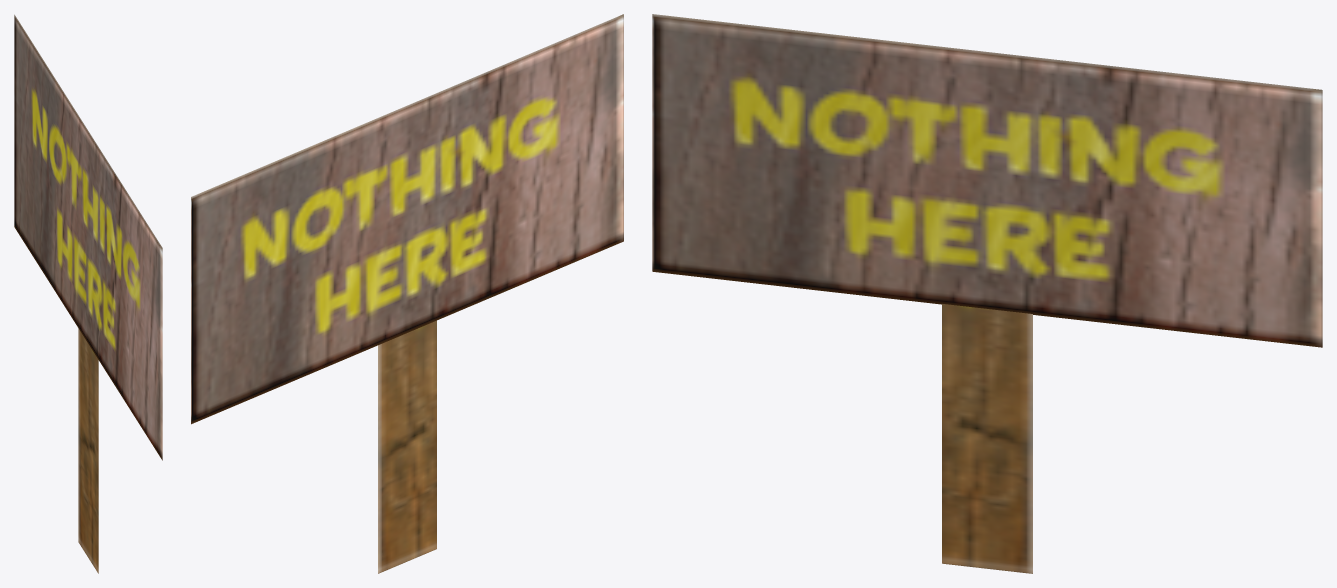
The model's file is wrongtway15.glb.
The picture shows the model from 3 angles, left to right: view 1: azimuth 30°, elevation 25°; view 2: azimuth 150°, elevation 25°; view 3: azimuth 270°, elevation 25°; orthographic projection. The views are drawn at different scales.
Visible parts, largest first — view 1: wrongtway15; view 2: wrongtway15; view 3: wrongtway15.
Boxes of the visible parts, x1=… form: wrongtway15: x1=14, y1=14, x2=162, y2=573; wrongtway15: x1=191, y1=14, x2=623, y2=573; wrongtway15: x1=652, y1=14, x2=1322, y2=573.
Bounding box in the file's own units: 148 × 469 × 551.
Materials: 1 (1 with a texture image).
